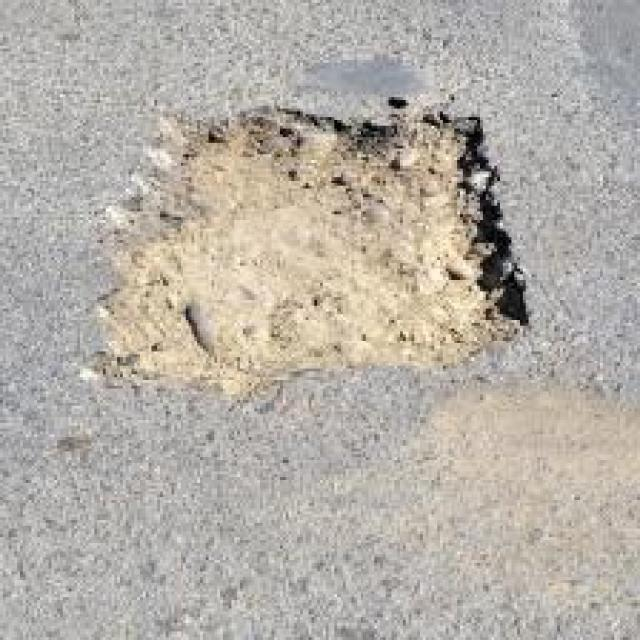BACHE: (85, 102, 519, 394)
